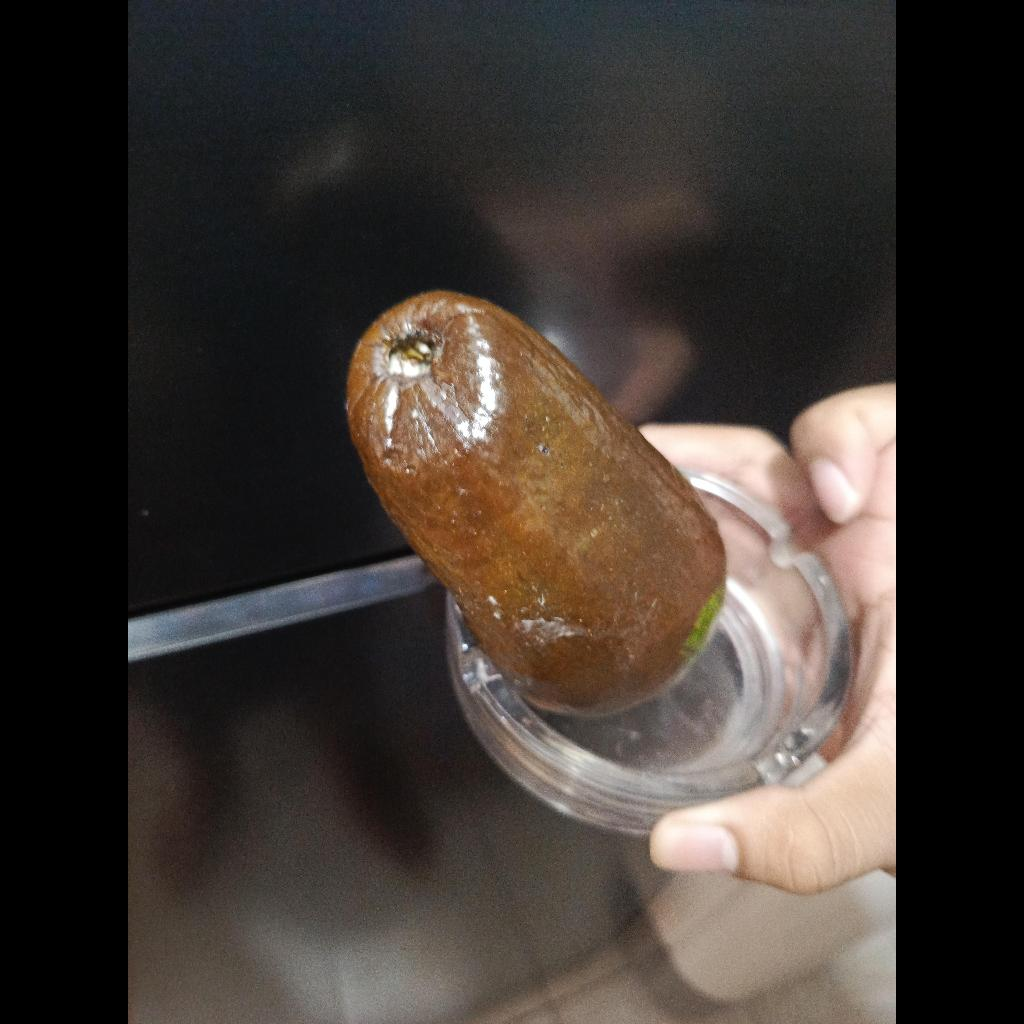stem end rot: (348, 291, 725, 710)
